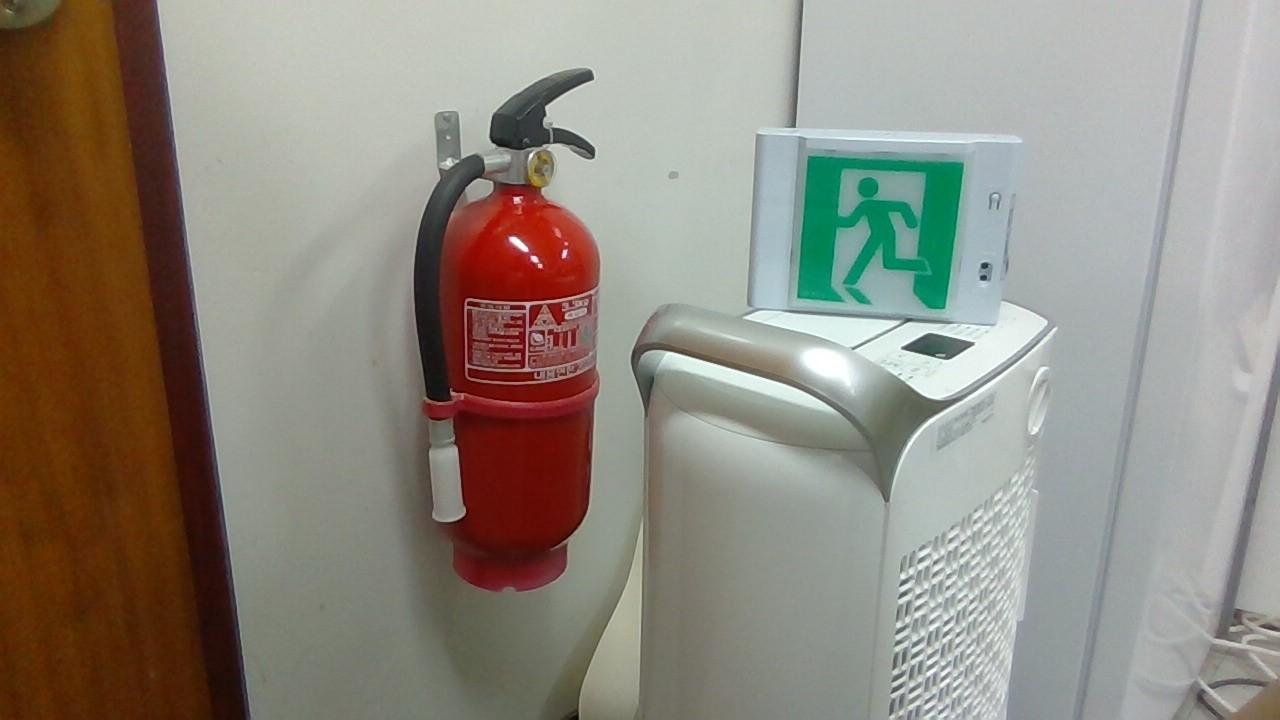emergency_exit: (412, 66, 604, 592), (746, 125, 1022, 327)
